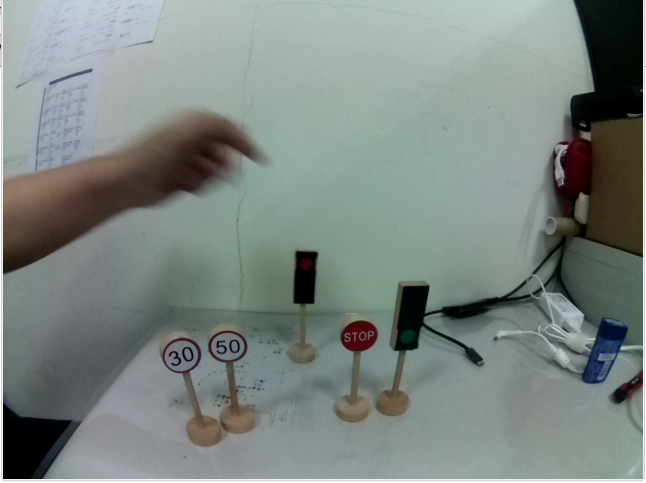Green: (387, 273, 430, 358)
Red: (289, 247, 319, 307)
Speed30: (159, 335, 201, 375)
Speed50: (209, 327, 249, 366)
Stop: (338, 313, 380, 358)
